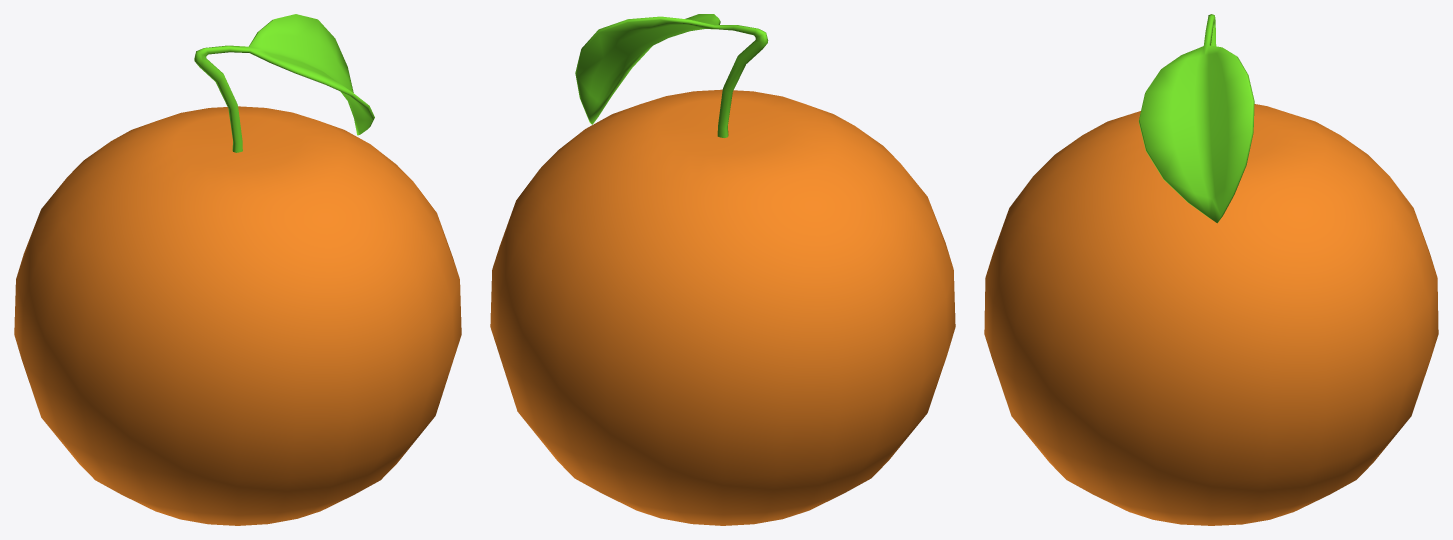
The model's file is laranja.fbx.
3 renders of one model, left to right at view 1: azimuth 30°, elevation 25°; view 2: azimuth 150°, elevation 25°; view 3: azimuth 270°, elevation 25°, orthographic. The views are drawn at different scales.
Parts seen in each view (by area): view 1: Orange; view 2: Orange; view 3: Orange.
Boxes of the visible parts, x1,y1,x2,y2 form: Orange: (14,14,461,525); Orange: (490,14,955,525); Orange: (984,14,1438,525).
Bounding box in the file's own units: 77.1 × 86.64 × 77.1.
